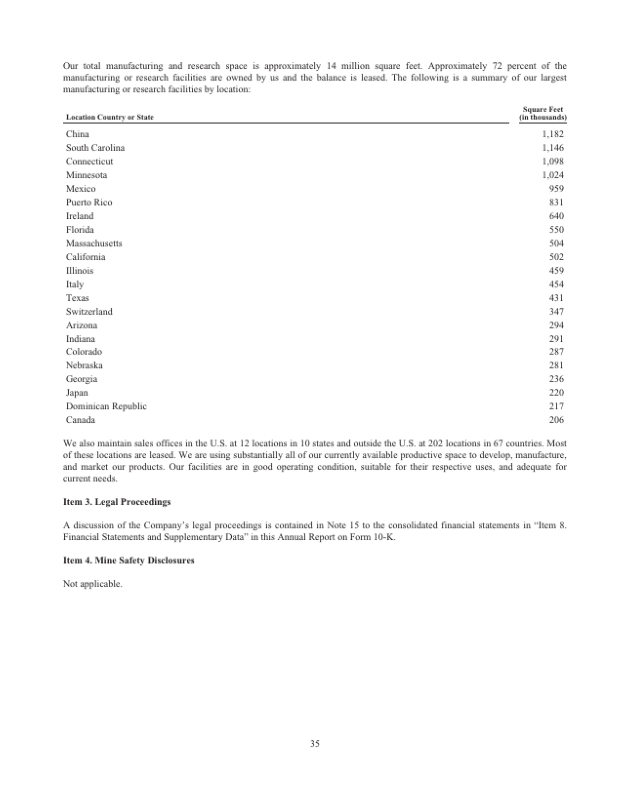table: (63, 103, 564, 428)
